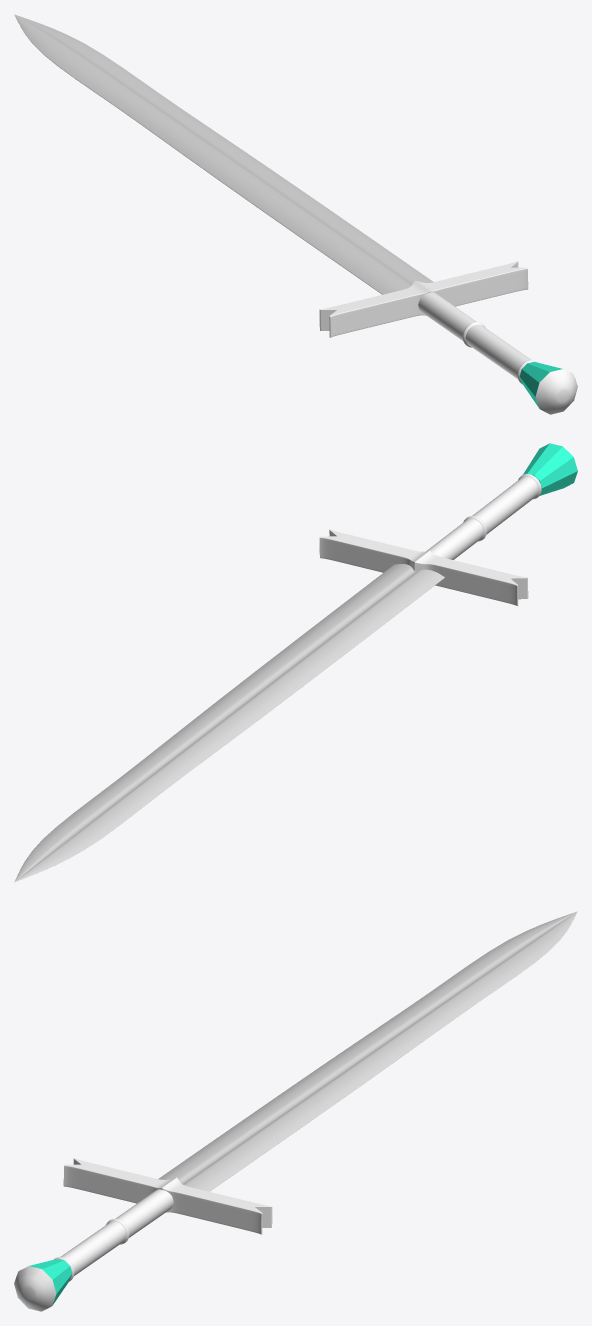
Rendered from Sword.glb.
3 renders of one model, top to bottom at view 1: azimuth 30°, elevation 25°; view 2: azimuth 150°, elevation 25°; view 3: azimuth 330°, elevation 25°, orthographic.
Visible parts, largest first — view 1: Blade; view 2: Blade; view 3: Blade.
Boxes of the visible parts, x1,y1,x2,y2 form: Blade: [14, 14, 577, 414]; Blade: [14, 443, 577, 882]; Blade: [14, 911, 577, 1311].
Bounding box in the file's own units: 0.2245 × 0.0458 × 1.08.
